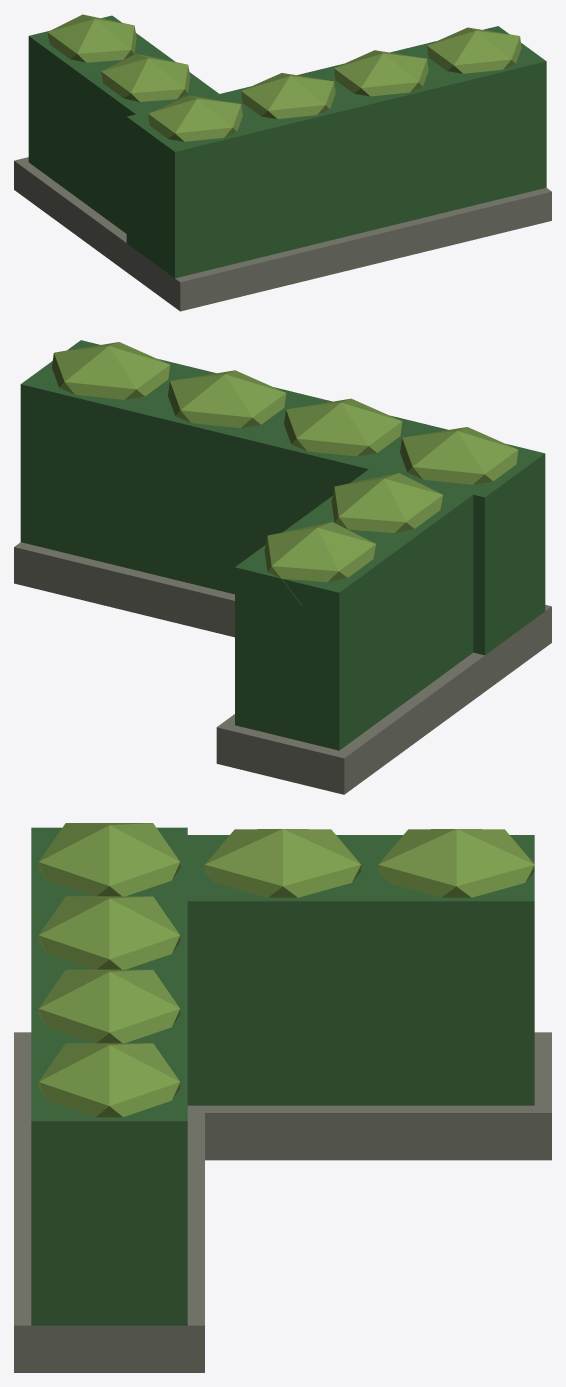
Rendered from Backyard_HedgeCorner_Standard.glb.
3 renders of one model, top to bottom at view 1: azimuth 30°, elevation 25°; view 2: azimuth 150°, elevation 25°; view 3: azimuth 270°, elevation 25°, orthographic. The views are drawn at different scales.
Visible parts, largest first — view 1: Backyard_HedgeCorner_Standard; view 2: Backyard_HedgeCorner_Standard; view 3: Backyard_HedgeCorner_Standard.
Boxes of the visible parts, x1,y1,x2,y2 form: Backyard_HedgeCorner_Standard: (14,14,551,311); Backyard_HedgeCorner_Standard: (14,340,551,794); Backyard_HedgeCorner_Standard: (14,823,551,1372).
Bounding box in the file's own units: 4 × 1.85 × 3.1.
